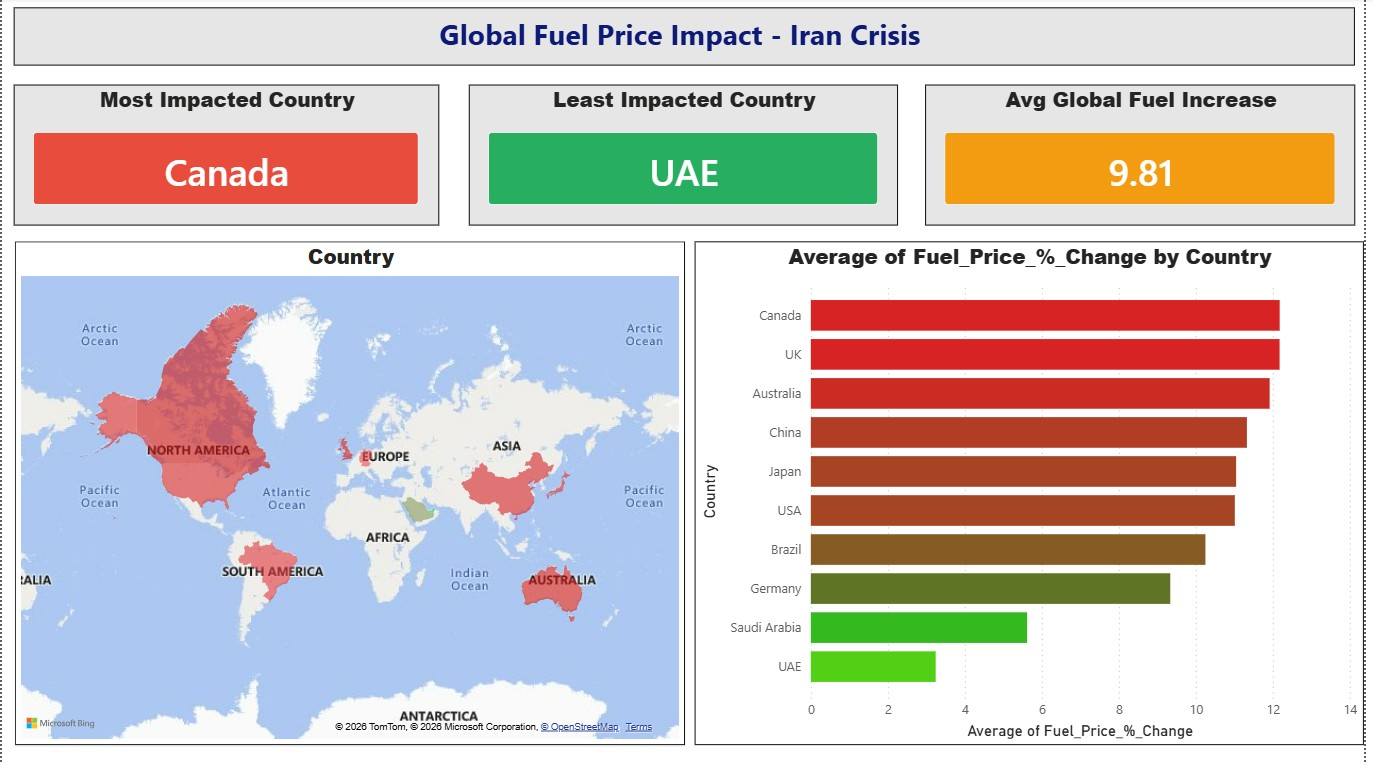

What the dashboard file says about the page in this screenshot:
{"tool":"powerbi","page":{"name":"Global Fuel Impact","canvas":[1280,720],"ordinal":2},"visuals":[{"type":"textbox","box":[11,8.8,1260.4,55],"z":0},{"type":"cardVisual","title":"Most Impacted Country","fields":{"Data":["powerbi_country_change_%_change.Top_country"]},"box":[11.3,81.3,399.8,132.1],"z":1000},{"type":"cardVisual","title":"Avg Global Fuel Increase","fields":{"Data":["powerbi_country_change_%_change.Avg_Fuel_Change"]},"box":[867.4,81.3,404.3,132.1],"z":2000},{"type":"cardVisual","title":"Least Impacted Country","fields":{"Data":["powerbi_country_change_%_change.Lowest_country"]},"box":[439.3,81.3,403.2,132.1],"z":3000},{"type":"filledMap","fields":{"Category":["powerbi_country_change_%_change.Country"]},"box":[11.6,229.3,630,473.6],"z":4000},{"type":"barChart","fields":{"Category":["powerbi_country_change_%_change.Country"],"Y":["Avg(powerbi_country_change_%_change.Fuel_Price_%_Change)"]},"box":[650.8,229.3,628.8,473.6],"z":5000}]}

Visuals, with their boxes in screenshot pixels (x1, y1, x2, y2), scaled from the page's 1280x720 canvas onto the 1373x763 screenshot:
textbox: detection(12, 9, 1364, 68)
"Most Impacted Country" cardVisual: detection(12, 86, 441, 226)
"Avg Global Fuel Increase" cardVisual: detection(930, 86, 1364, 226)
"Least Impacted Country" cardVisual: detection(471, 86, 904, 226)
filledMap - powerbi_country_change_%_change.Country: detection(12, 243, 688, 745)
barChart - powerbi_country_change_%_change.Country x Avg(powerbi_country_change_%_change.Fuel_Price_%_Change): detection(698, 243, 1372, 745)
